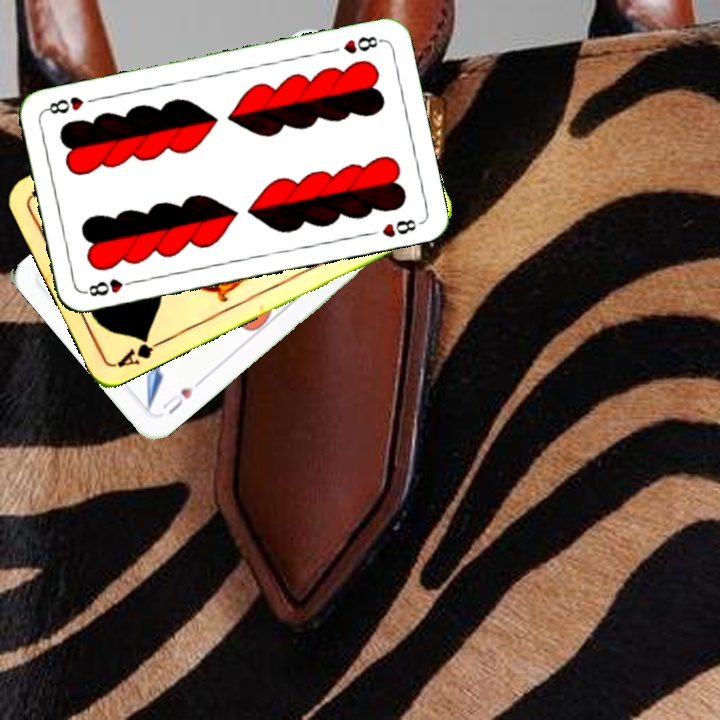GA: (112, 332, 168, 370)
H8: (80, 275, 139, 299), (339, 32, 385, 57)
HU: (158, 383, 196, 417)
